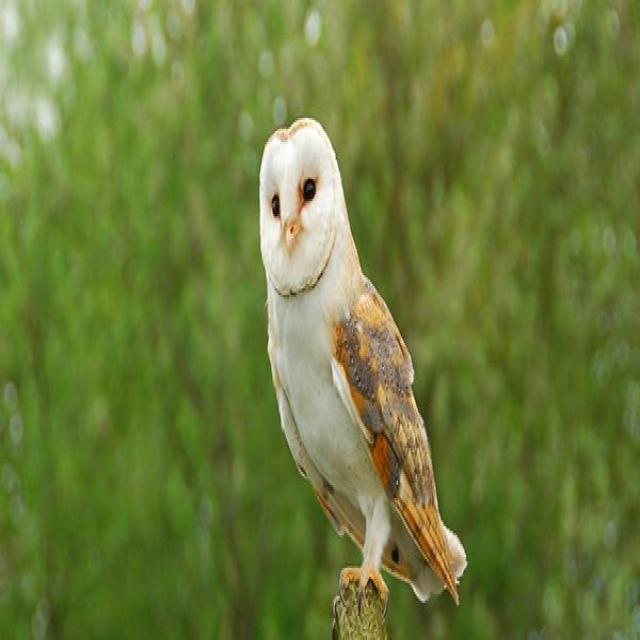Owl: (254, 106, 469, 600)
